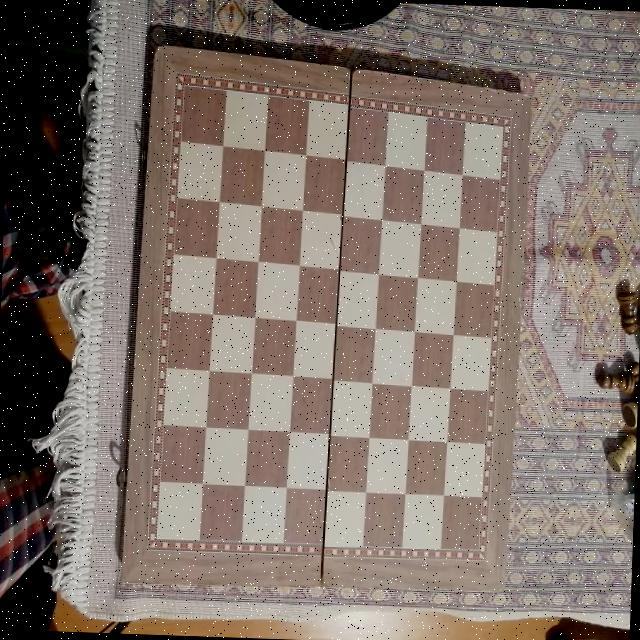corners: (146, 32, 174, 64), (520, 87, 542, 113), (112, 568, 137, 590), (492, 582, 516, 602)
